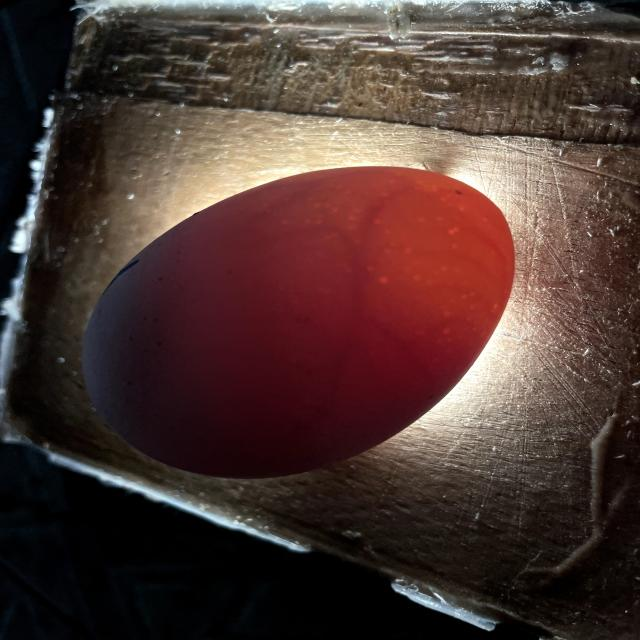fertile: (83, 166, 515, 478)
